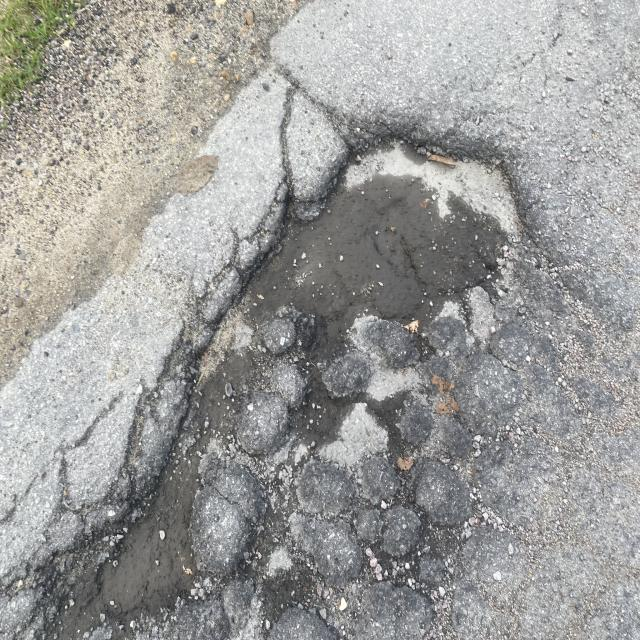Pothole: (73, 108, 639, 640)
